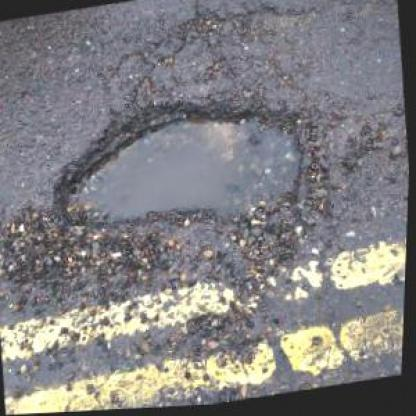pothole: (40, 76, 334, 264)
